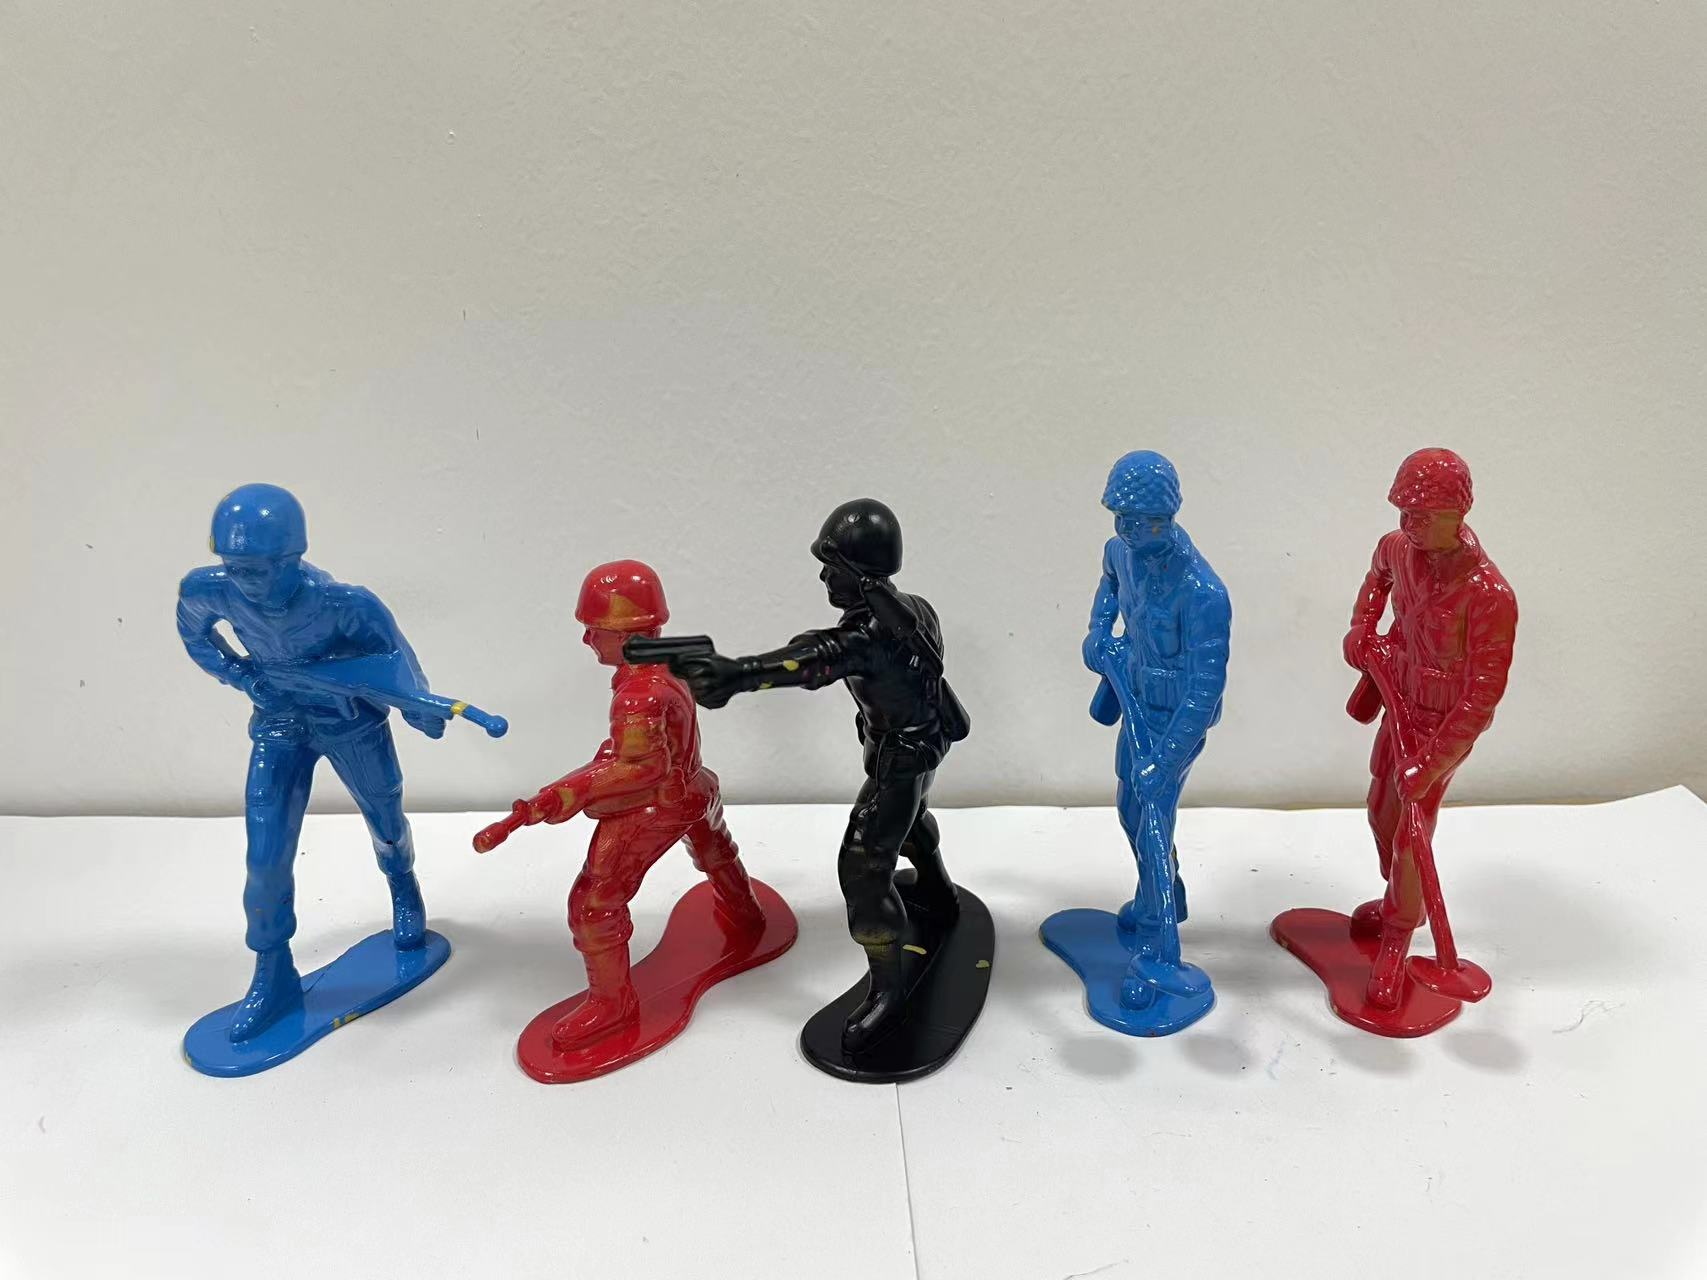black: (720, 454, 1017, 1125)
blue: (130, 472, 481, 1086), (1030, 442, 1254, 1072)
red: (1276, 382, 1605, 1082), (472, 553, 778, 1104)
